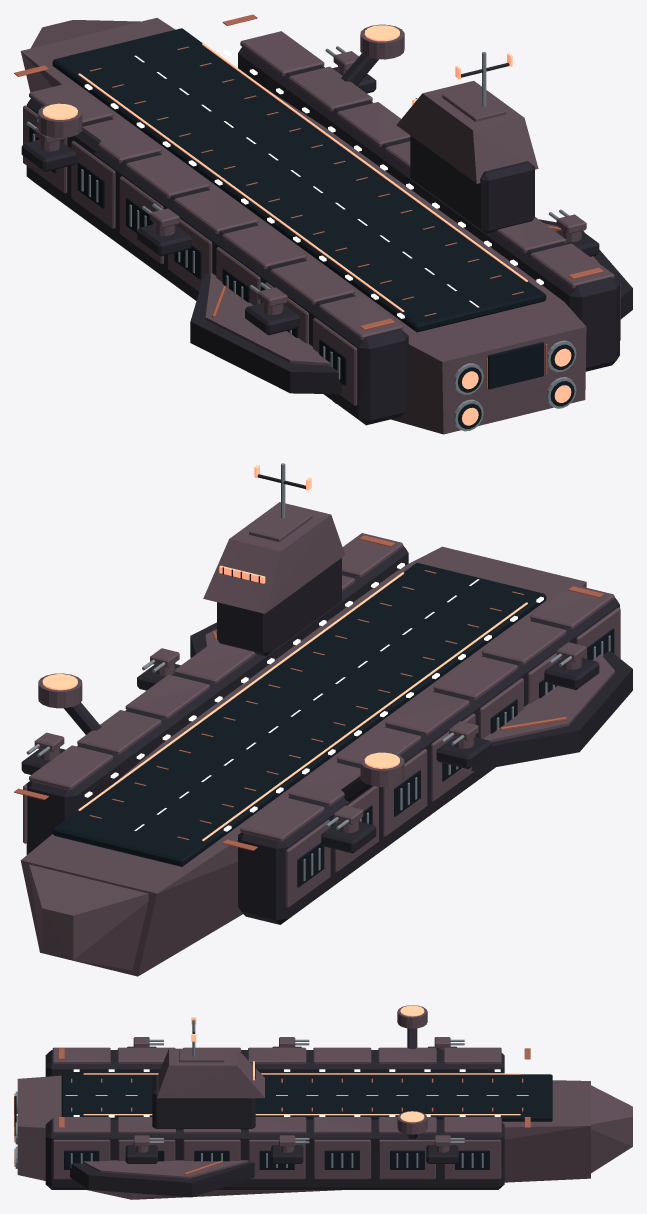
Rendered from tyrant_fleet_a.glb.
3 views of the same model, one above another, from view 1: azimuth 30°, elevation 25°; view 2: azimuth 150°, elevation 25°; view 3: azimuth 270°, elevation 25° (orthographic). The views are drawn at different scales.
Visible parts, largest first — view 1: RNS_Tyrant_Flotte_A; view 2: RNS_Tyrant_Flotte_A; view 3: RNS_Tyrant_Flotte_A.
Part boxes in pixels (left/top/right/bottom): RNS_Tyrant_Flotte_A: left=14, top=14, right=632, bottom=434; RNS_Tyrant_Flotte_A: left=14, top=463, right=632, bottom=976; RNS_Tyrant_Flotte_A: left=14, top=1005, right=632, bottom=1199.
Bounding box in the file's own units: 302 × 200 × 618.
